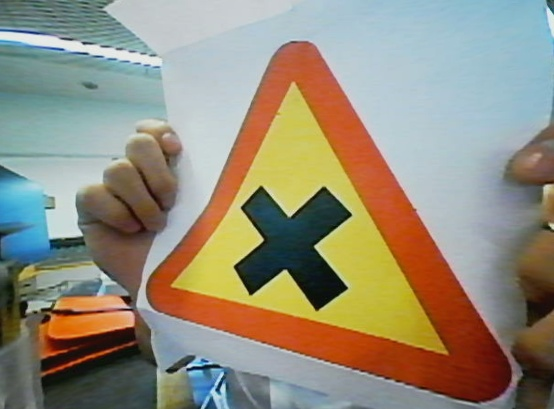junction: (114, 27, 524, 409)
